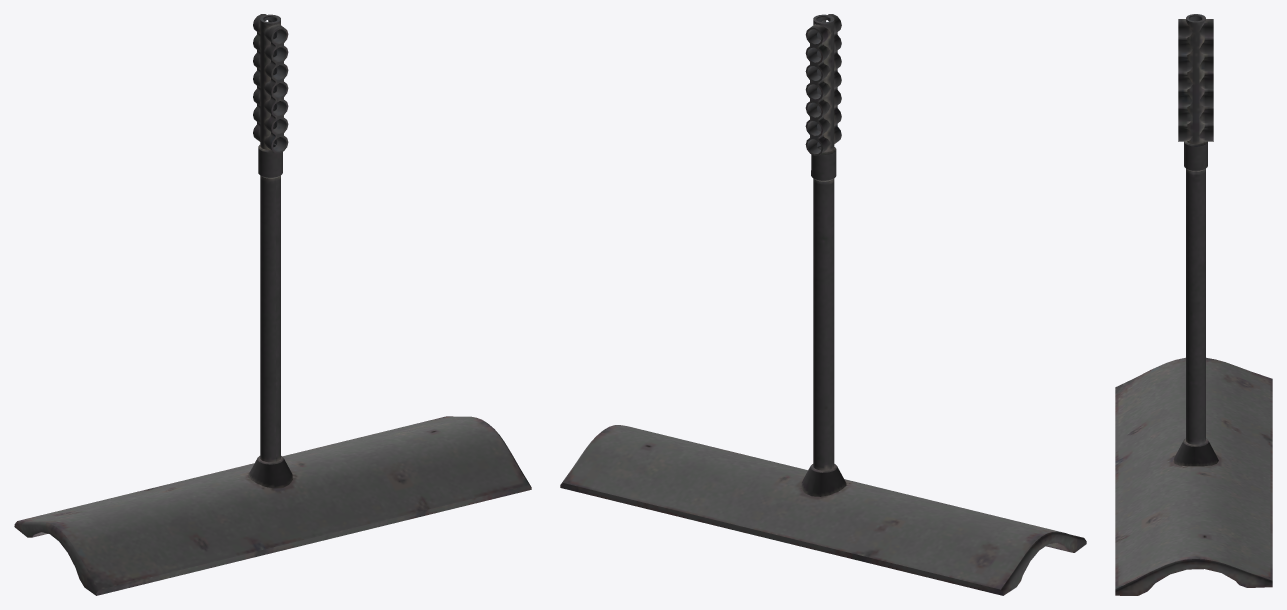
Rendered from Gun_04.glb.
3 renders of one model, left to right at view 1: azimuth 30°, elevation 25°; view 2: azimuth 150°, elevation 25°; view 3: azimuth 270°, elevation 25°, orthographic. The views are drawn at different scales.
Visible parts, largest first — view 1: set_0_group_0; view 2: set_0_group_0; view 3: set_0_group_0.
Part boxes in pixels (x1,y1,x2,y2): set_0_group_0: (14,14,531,595); set_0_group_0: (560,14,1086,595); set_0_group_0: (1115,14,1272,595).
Size of the model in its own units: 1.11 by 1.21 by 0.3635.
1 material, 1 textured.
